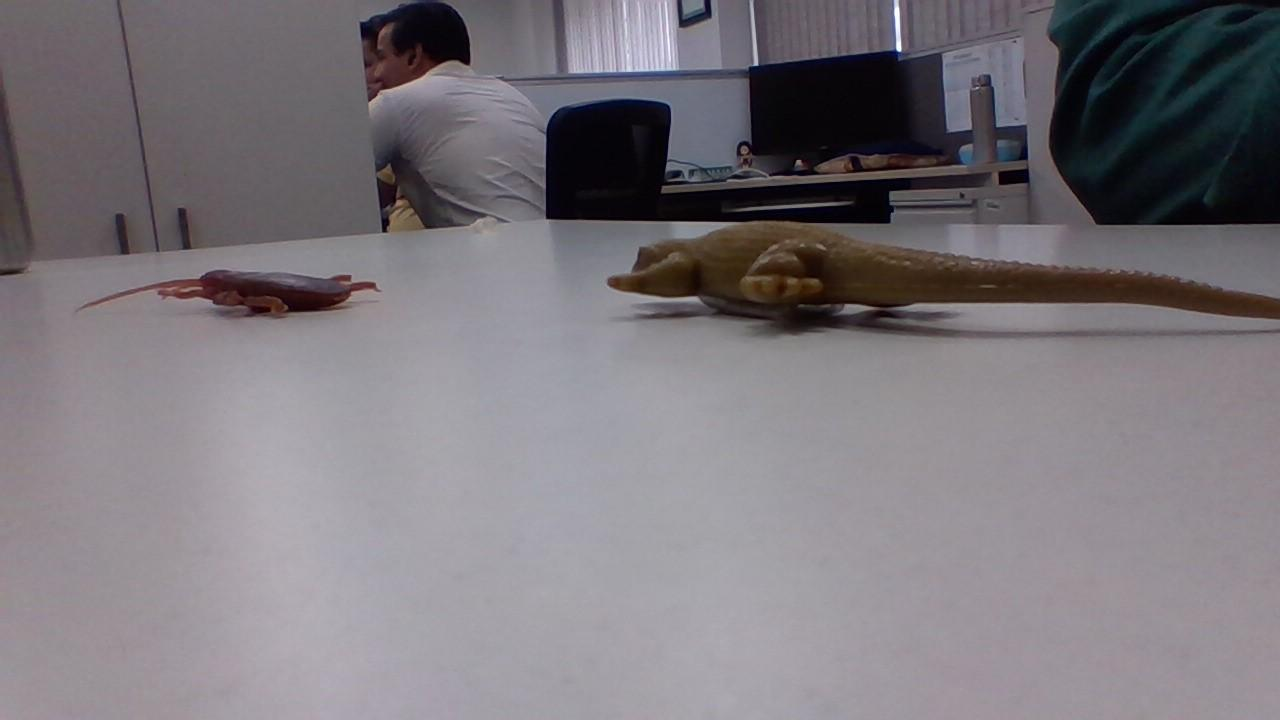cockroach: (76, 251, 378, 325)
lizard: (607, 224, 1280, 332)
